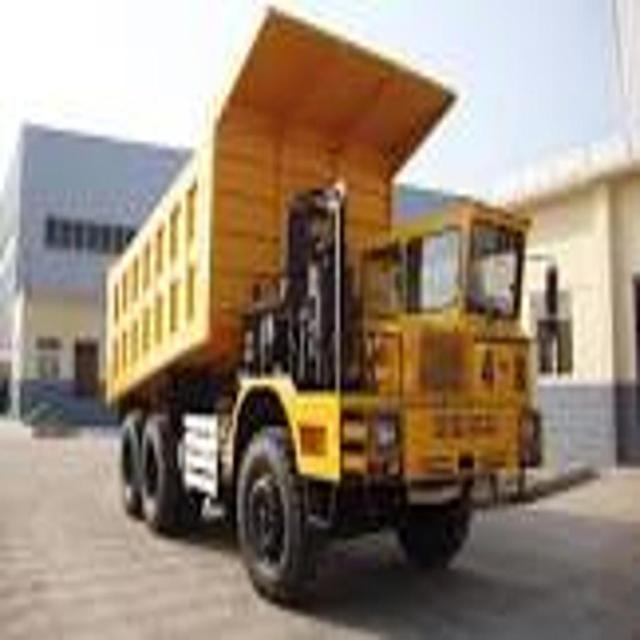dump_truck: (95, 11, 550, 600)
